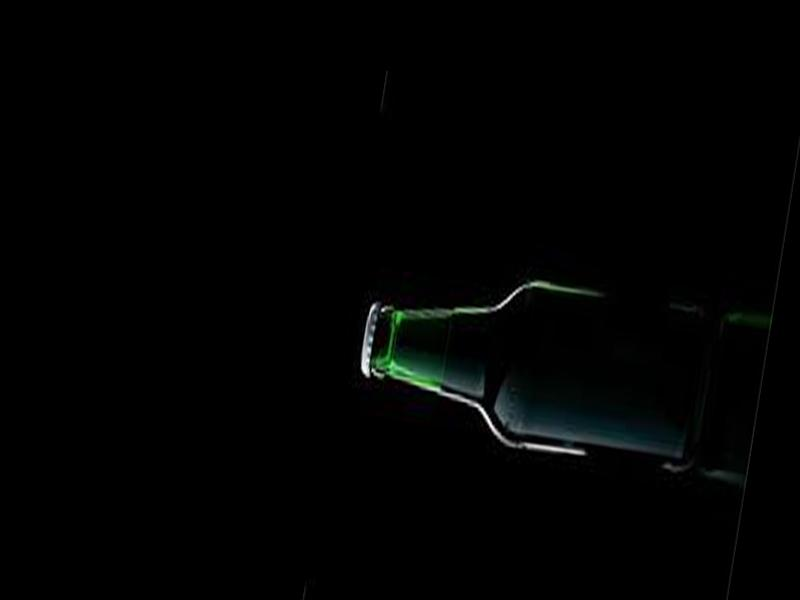Beer: (348, 255, 714, 481)
